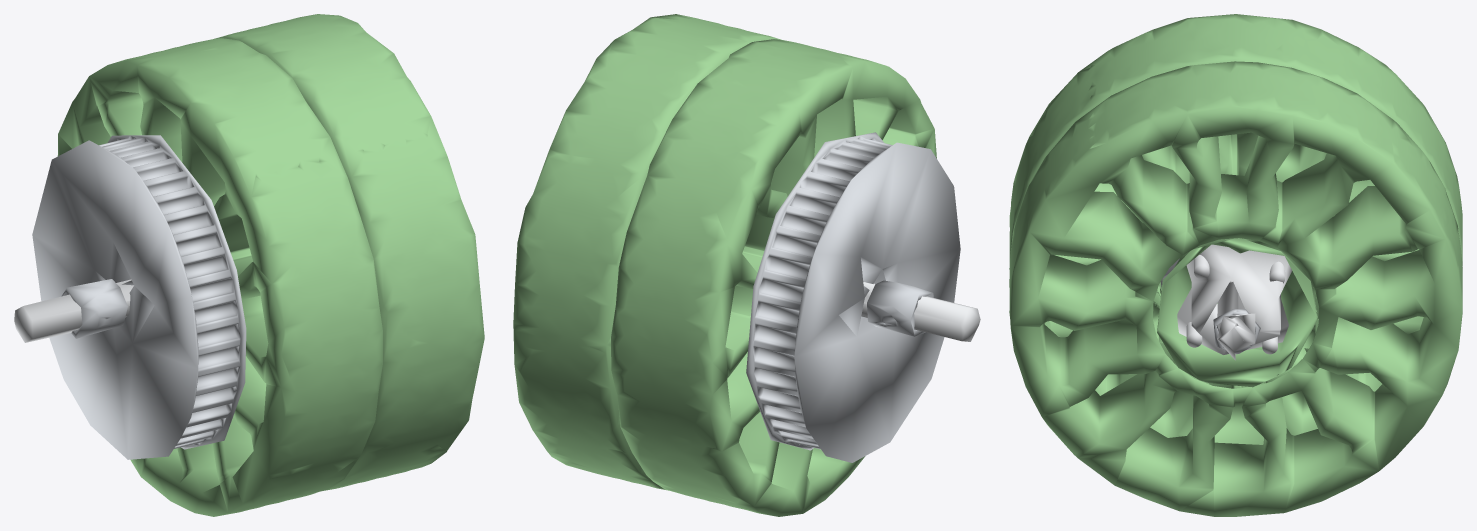
3 renders of one model, left to right at view 1: azimuth 30°, elevation 25°; view 2: azimuth 150°, elevation 25°; view 3: azimuth 270°, elevation 25°, orthographic. The views are drawn at different scales.
Visible parts, largest first — view 1: part_0, part_2, part_1; view 2: part_0, part_2, part_1; view 3: part_0, part_1, part_2.
Part boxes in pixels (box(x1,y1,x2,y2)): part_0: box(57, 14, 484, 516); part_2: box(32, 135, 246, 459); part_1: box(14, 279, 133, 342); part_0: box(513, 14, 936, 516); part_2: box(746, 132, 960, 462); part_1: box(861, 282, 980, 341); part_0: box(1009, 14, 1462, 516); part_1: box(1177, 244, 1292, 360); part_2: box(1160, 258, 1260, 354).
Size of the model in its own units: 0.0964 by 0.0955 by 0.0956.
